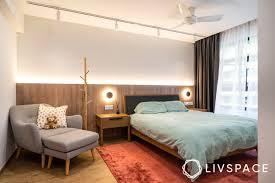bed: (125, 94, 257, 176)
fan: (166, 1, 229, 32)
light: (71, 53, 94, 130), (104, 88, 116, 103), (181, 87, 196, 99)
sofa: (9, 102, 100, 174)
table: (96, 114, 129, 143), (187, 106, 208, 116)
